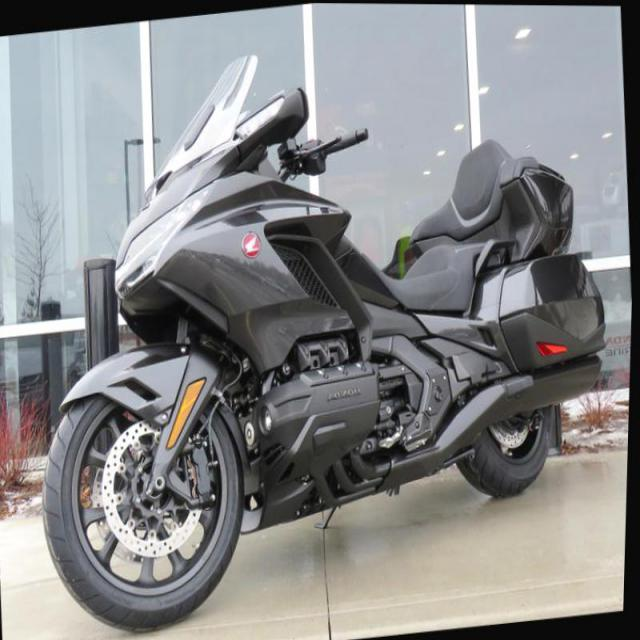Gold Wing: (14, 12, 630, 639)
